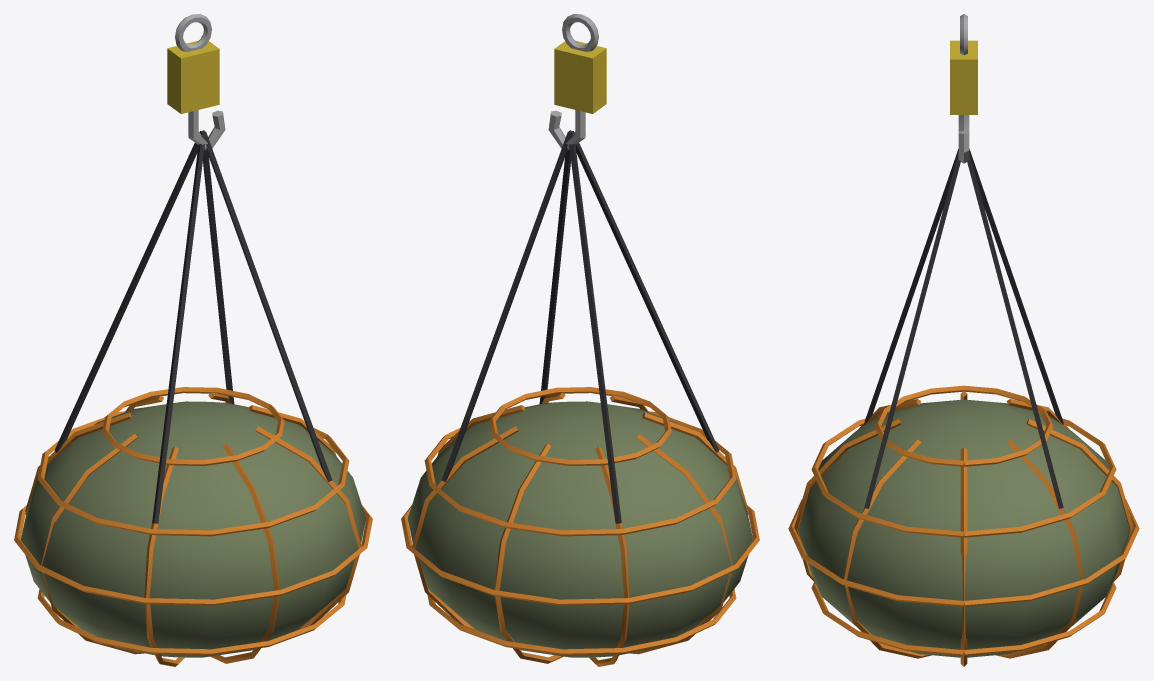
File: cargo-net.glb
3 views of the same model, side by side, from view 1: azimuth 30°, elevation 25°; view 2: azimuth 150°, elevation 25°; view 3: azimuth 270°, elevation 25° (orthographic).
Visible parts, largest first — view 1: cargo-net; view 2: cargo-net; view 3: cargo-net.
Part boxes in pixels (x1,y1,x2,y2): cargo-net: [14, 14, 372, 666]; cargo-net: [401, 14, 759, 666]; cargo-net: [788, 14, 1139, 666].
Size of the model in its own units: 1.3 by 2.51 by 1.26.
